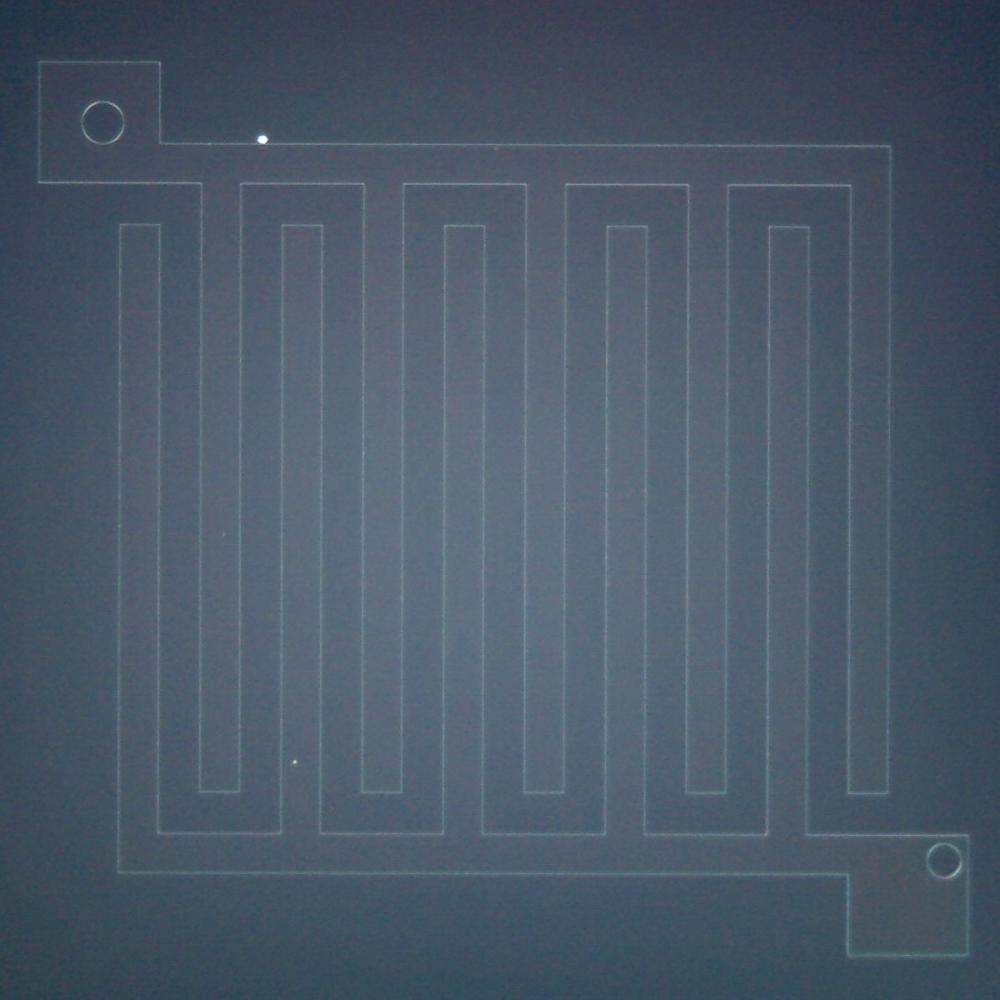circle: (77, 100, 126, 148), (923, 838, 965, 887)
dot: (284, 749, 308, 776)
spot: (250, 128, 278, 154)
